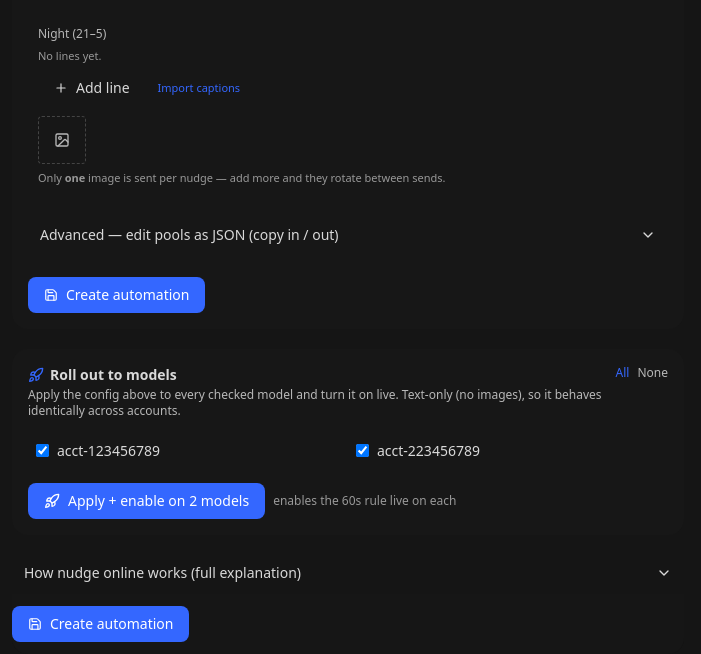
Test: NudgeOnlineTab over its own save › back on A mid-save, A's Save stays off until its PUT settles (no second PUT)
(page scrolled)
Click the 1st button "Create automation" at (117, 295), box [28,277,206,313]
(page scrolled)
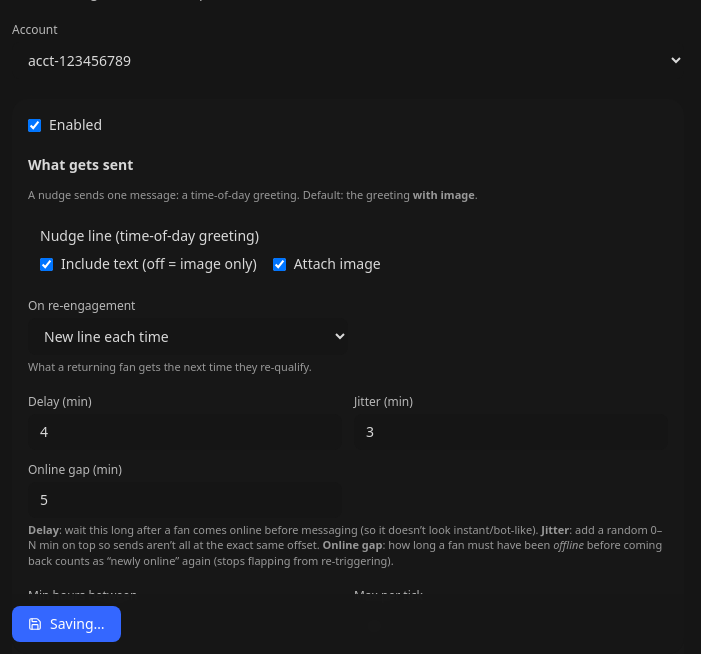
Select "acct-223456789" in the dropdown labelled "Account" at (348, 60), box [12,42,684,79]
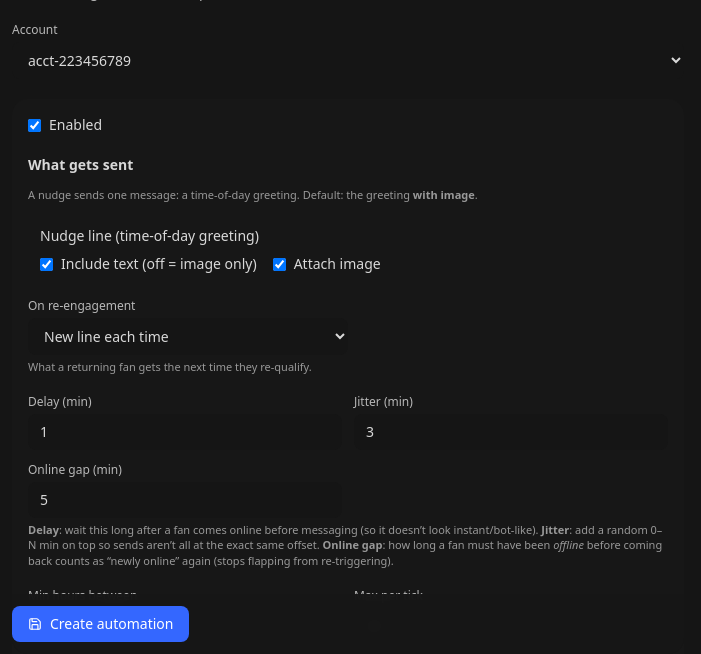
Now the number field labelled "Delay (min)" holds "1", box [28,414,342,450]
Select "acct-123456789" in the dropdown labelled "Account" at (348, 60), box [12,42,684,79]
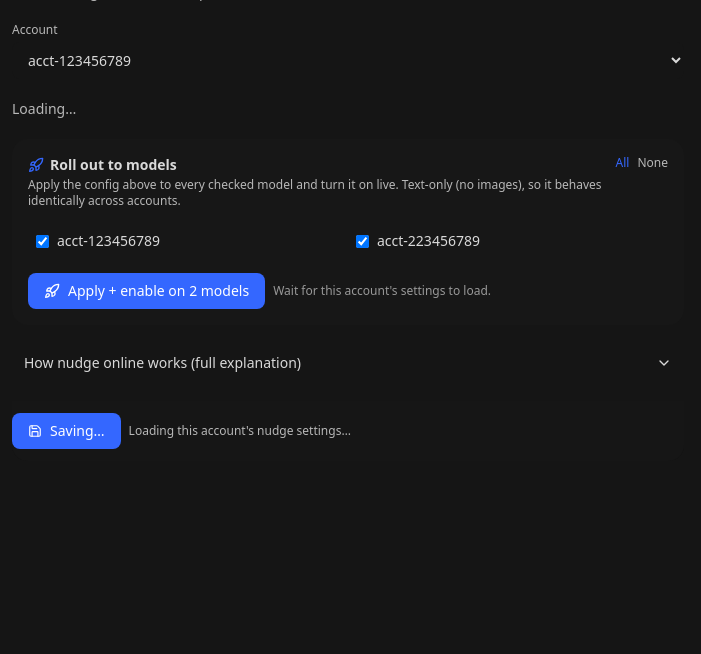
Now the button "Saving…" is shown
Now the text labelled "Delay (min)" is gone
Now the button "Saving…" is disabled
Click the button "Saving…" at (66, 431), box [12,413,121,449]
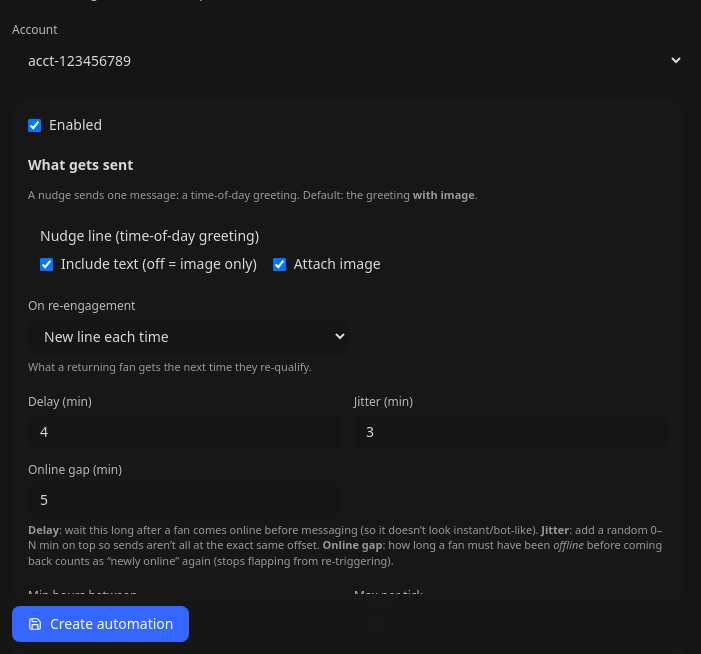
Now the number field labelled "Delay (min)" holds "4", box [28,414,342,450]
